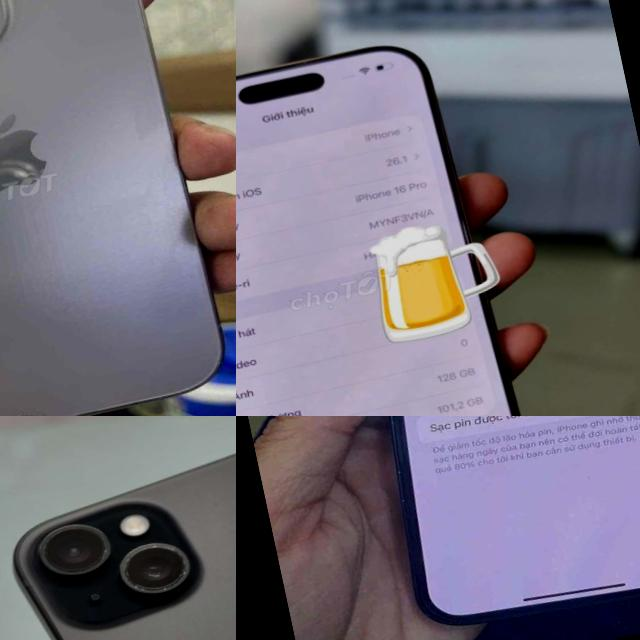gen_14: (312, 416, 640, 640)
gen_15: (0, 0, 236, 416), (0, 416, 236, 640)
gen_16: (236, 47, 516, 416)
